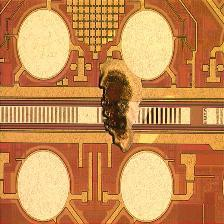BLOCK ETCH: (92, 55, 146, 155)
